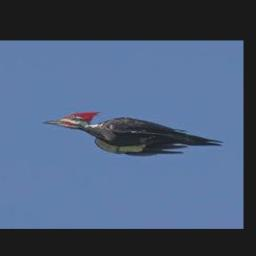Woodpecker: (43, 111, 224, 155)
